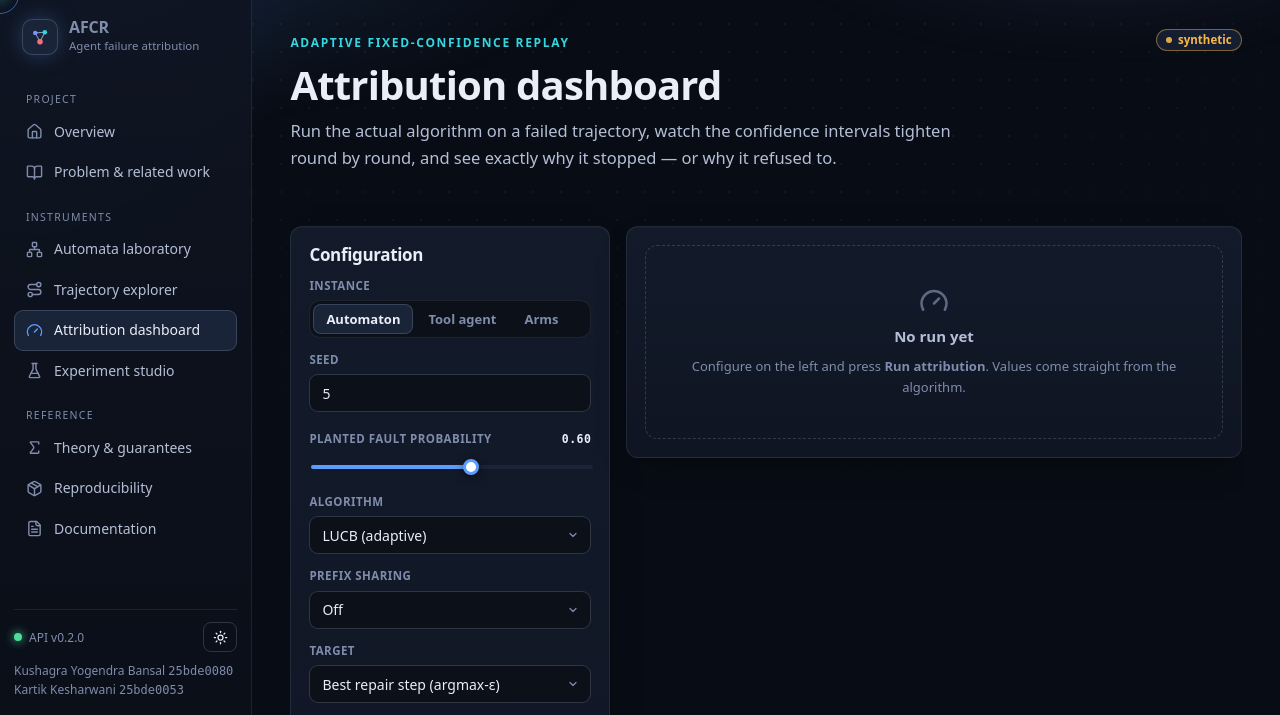
Scenario: forms cannot submit invalid values › threshold targets show the threshold panel and are judged against the threshold answer
Select "Latest step ≥ θ (CAR locus)" in the dropdown labelled "Target" at (450, 684), box x1=309 y1=665 x2=591 y2=703
(page scrolled)
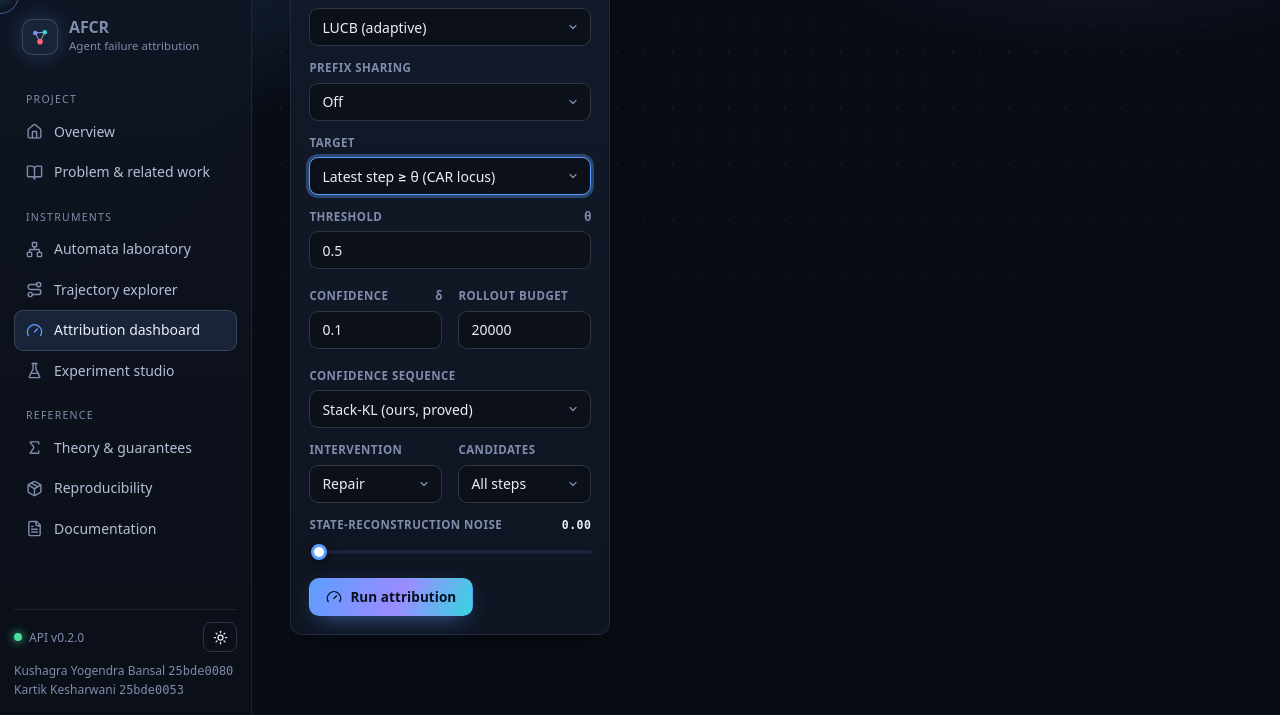
Click the button with test id "run-attribution" at (391, 597), box x1=309 y1=578 x2=473 y2=616
(page scrolled)
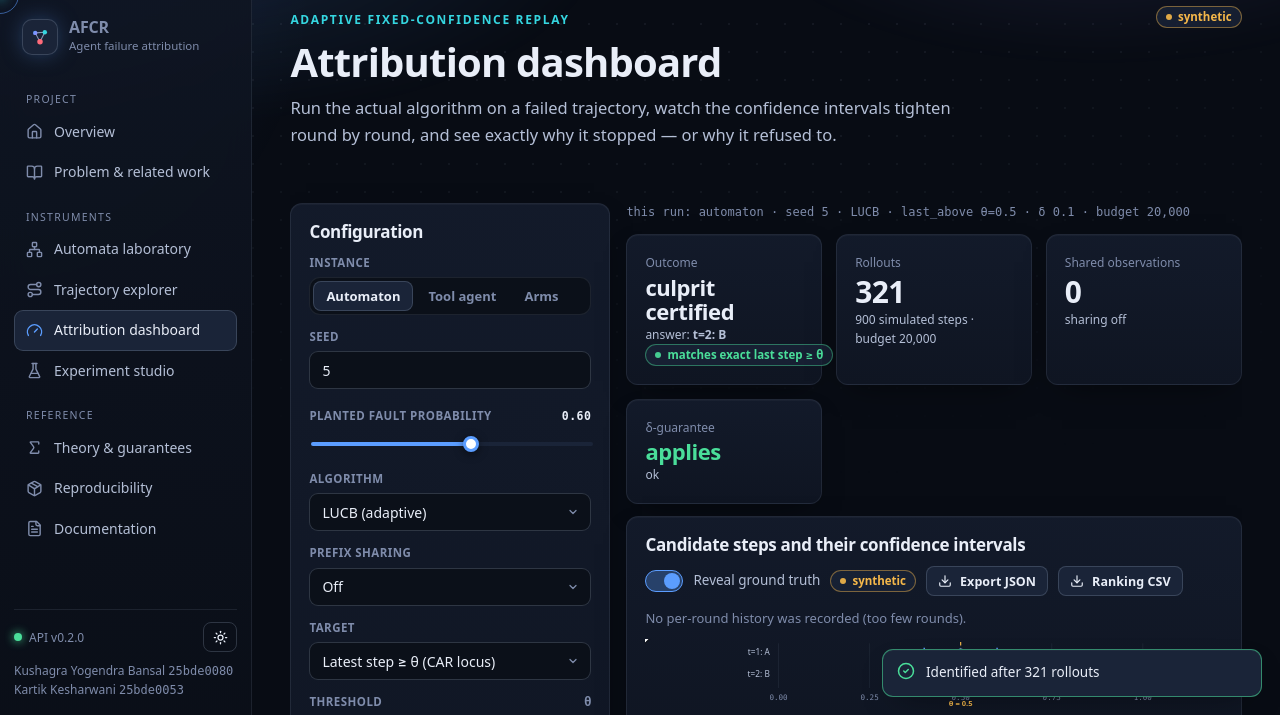
Now the text "matches exact last step ≥ θ" is shown, box x1=645 y1=344 x2=833 y2=366
